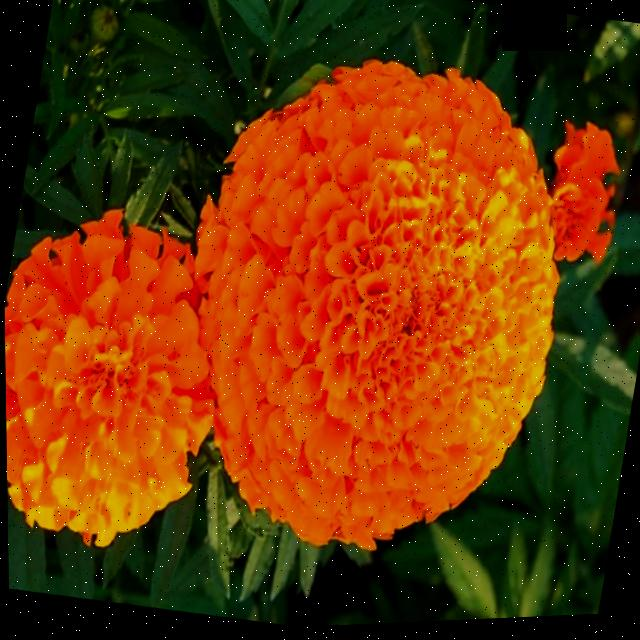marigold: (84, 0, 620, 637), (1, 105, 294, 624)
